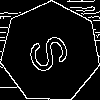S: (25, 27, 80, 77)
